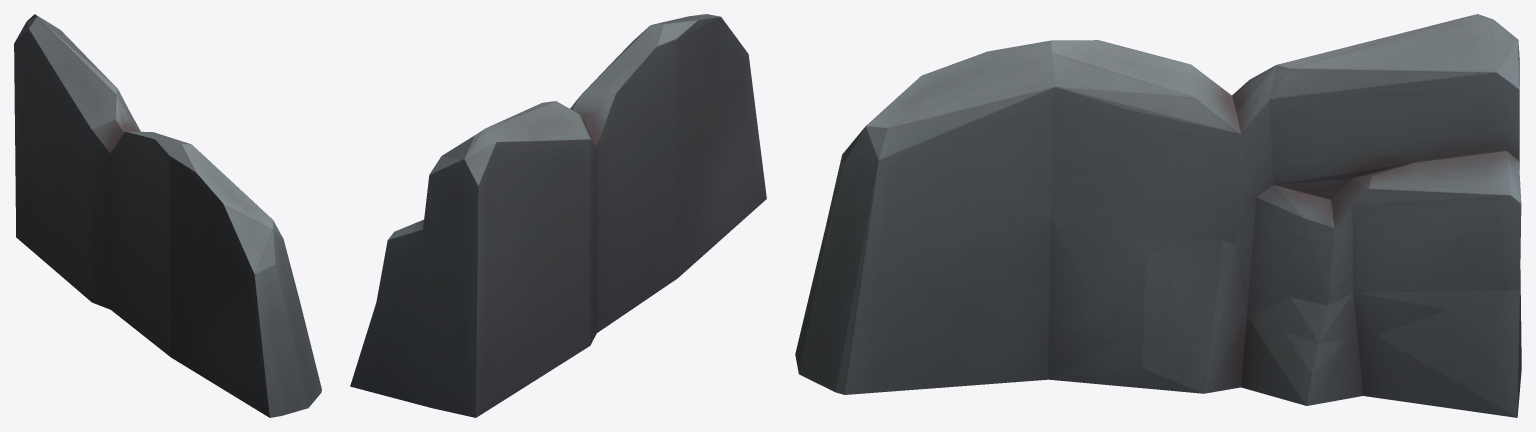
The model's file is SM_Ramp01.fbx.
The picture shows the model from 3 angles, left to right: view 1: azimuth 30°, elevation 25°; view 2: azimuth 150°, elevation 25°; view 3: azimuth 270°, elevation 25°; orthographic projection. The views are drawn at different scales.
Parts seen in each view (by area): view 1: SM_Ramp01; view 2: SM_Ramp01; view 3: SM_Ramp01.
Part boxes in pixels (left/top/right/bottom): SM_Ramp01: left=14, top=14, right=321, bottom=417; SM_Ramp01: left=350, top=14, right=766, bottom=417; SM_Ramp01: left=795, top=14, right=1521, bottom=417.
Bounding box in the file's own units: 1.75 × 3.32 × 6.54.
